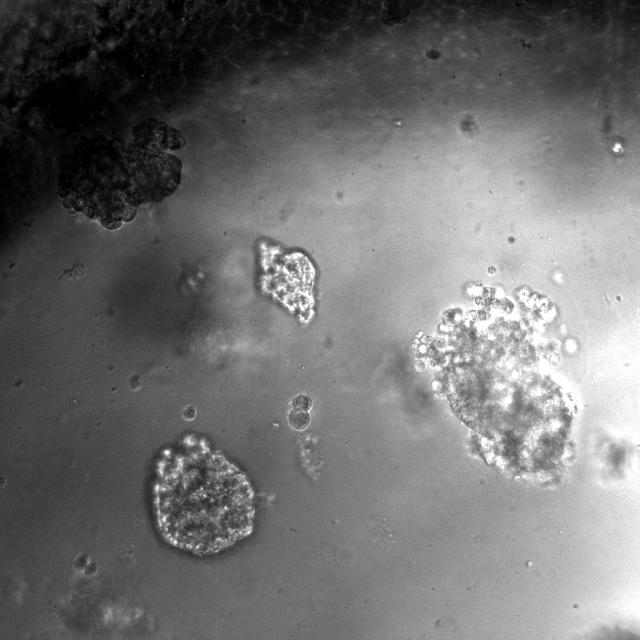organoid: (414, 283, 576, 485), (58, 117, 182, 229), (149, 432, 256, 556), (256, 238, 318, 325), (287, 393, 312, 430), (73, 553, 97, 577), (128, 373, 143, 391), (182, 404, 196, 421)
